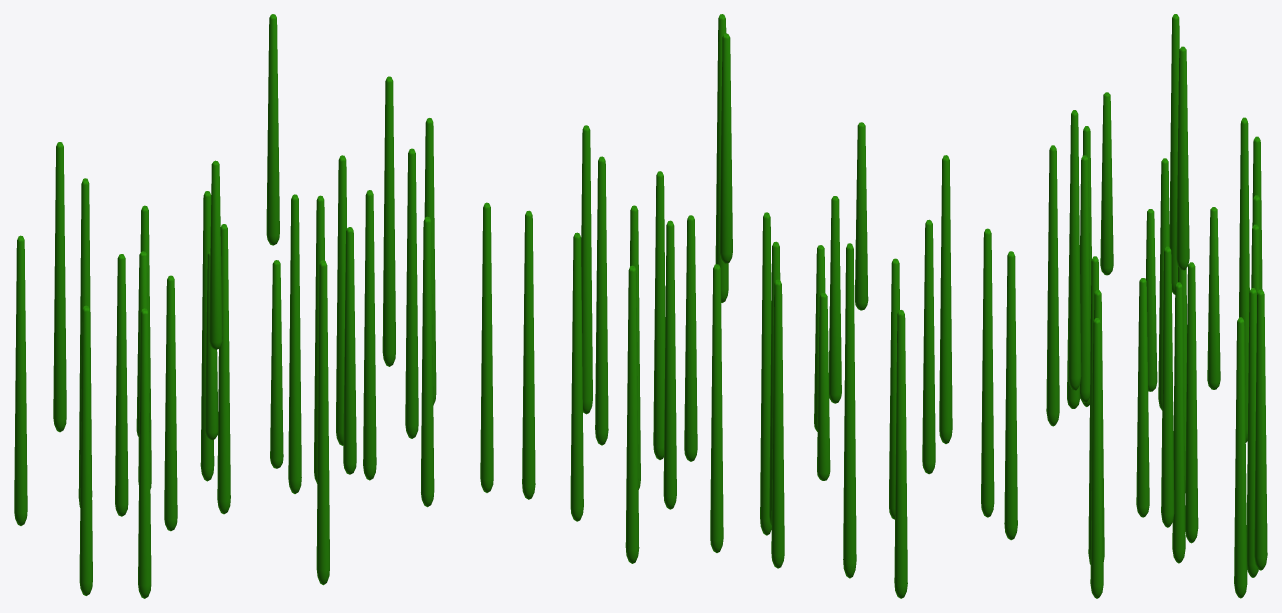
The model's file is animation.glb.
3 renders of one model, left to right at view 1: azimuth 30°, elevation 25°; view 2: azimuth 150°, elevation 25°; view 3: azimuth 270°, elevation 25°, orthographic. The views are drawn at different scales.
Parts seen in each view (by area): view 1: Icosphere.009, Icosphere.010, Icosphere.012, Icosphere.018, Icosphere.019, Icosphere.025, Icosphere.024, Icosphere.021, Icosphere.022, Icosphere.015, Icosphere.014, Icosphere.005 (+14 smaller); view 2: Icosphere.011, Icosphere.010, Icosphere.022, Icosphere.017, Icosphere.013, Icosphere.018, Icosphere.019, Icosphere.024, Icosphere.016, Icosphere.025, Icosphere.020, Icosphere.021 (+14 smaller); view 3: Icosphere.021, Icosphere.025, Icosphere.013, Icosphere.023, Icosphere.024, Icosphere.015, Icosphere.020, Icosphere.012, Icosphere.004, Icosphere.011, Icosphere.006, Icosphere.008 (+14 smaller).
Part boxes in pixels (<box>): Icosphere.009: <box>316,260,329,585</box>; Icosphere.010: <box>288,194,301,493</box>; Icosphere.012: <box>363,190,376,480</box>; Icosphere.018: <box>14,235,27,525</box>; Icosphere.019: <box>53,142,66,432</box>; Icosphere.025: <box>405,148,418,438</box>; Icosphere.024: <box>480,202,493,492</box>; Icosphere.021: <box>138,308,151,598</box>; Icosphere.022: <box>79,305,92,595</box>; Icosphere.015: <box>382,76,395,366</box>; Icosphere.014: <box>421,216,434,507</box>; Icosphere.005: <box>217,224,230,514</box>; Icosphere.011: <box>843,243,856,578</box>; Icosphere.010: <box>625,265,639,563</box>; Icosphere.022: <box>1004,251,1017,540</box>; Icosphere.017: <box>771,279,784,568</box>; Icosphere.013: <box>570,232,583,521</box>; Icosphere.018: <box>894,310,907,598</box>; Icosphere.019: <box>939,155,952,443</box>; Icosphere.024: <box>595,156,608,445</box>; Icosphere.016: <box>710,264,723,552</box>; Icosphere.025: <box>522,210,535,499</box>; Icosphere.020: <box>663,220,676,509</box>; Icosphere.021: <box>981,228,994,517</box>; Icosphere.021: <box>1046,145,1059,426</box>; Icosphere.025: <box>1234,317,1247,598</box>; Icosphere.013: <box>1254,289,1267,570</box>; Icosphere.023: <box>1161,246,1174,527</box>; Icosphere.024: <box>1090,318,1103,598</box>; Icosphere.015: <box>1068,110,1081,390</box>; Icosphere.020: <box>1185,262,1198,543</box>; Icosphere.012: <box>1172,282,1185,563</box>; Icosphere.004: <box>1136,278,1149,517</box>; Icosphere.011: <box>1239,117,1249,442</box>; Icosphere.006: <box>1176,46,1189,270</box>; Icosphere.008: <box>1080,155,1090,402</box>.
Size of the model in its own units: 70.02 by 86.28 by 33.18.
